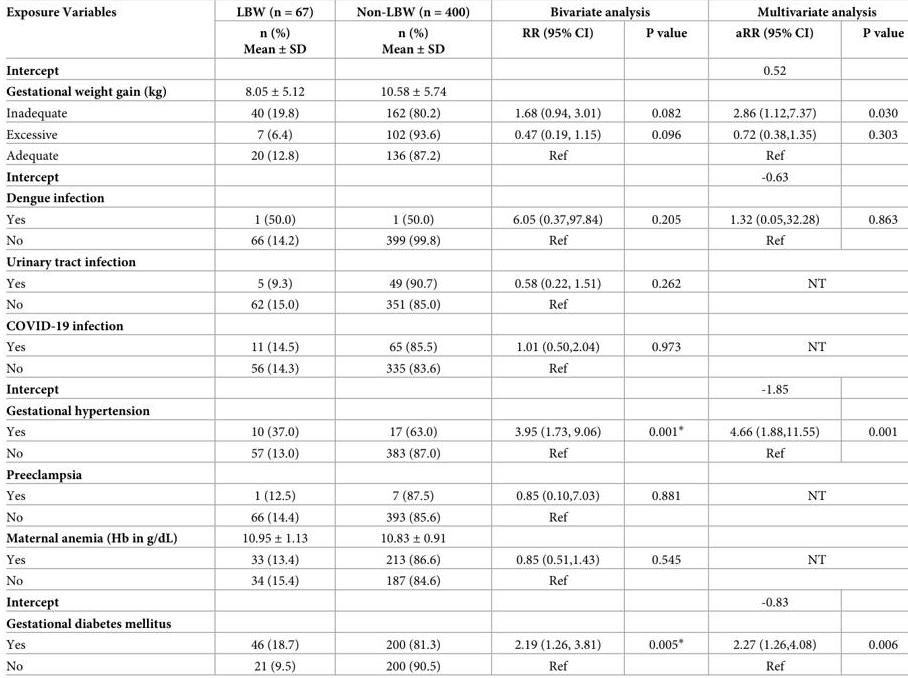table: (5, 5, 903, 672)
table column: (5, 5, 206, 672), (334, 5, 491, 672), (707, 5, 840, 672), (491, 5, 623, 672), (206, 5, 334, 672), (623, 5, 707, 672), (840, 5, 903, 672)
table column header: (5, 5, 903, 60)
table projected row header: (5, 187, 903, 208), (5, 251, 903, 272), (5, 315, 903, 336), (5, 464, 903, 485), (5, 612, 903, 633), (5, 400, 903, 420)
table row: (5, 22, 903, 60), (5, 80, 903, 103), (5, 526, 903, 549), (5, 123, 903, 145), (5, 208, 903, 230), (5, 272, 903, 294), (5, 357, 903, 379), (5, 420, 903, 442), (5, 442, 903, 464), (5, 633, 903, 655), (5, 145, 903, 166), (5, 166, 903, 187), (5, 187, 903, 208), (5, 230, 903, 251), (5, 251, 903, 272), (5, 294, 903, 315), (5, 315, 903, 336), (5, 336, 903, 357), (5, 379, 903, 400), (5, 464, 903, 485), (5, 485, 903, 506), (5, 549, 903, 570), (5, 570, 903, 591), (5, 591, 903, 612), (5, 612, 903, 633), (5, 60, 903, 80), (5, 103, 903, 123), (5, 400, 903, 420), (5, 506, 903, 526), (5, 5, 903, 22), (5, 655, 903, 672)
table spanning cell: (5, 5, 206, 60), (334, 5, 491, 60), (206, 5, 334, 60), (707, 272, 903, 294), (707, 336, 903, 357), (707, 485, 903, 506), (707, 549, 903, 570), (491, 5, 707, 22), (707, 5, 903, 22)
